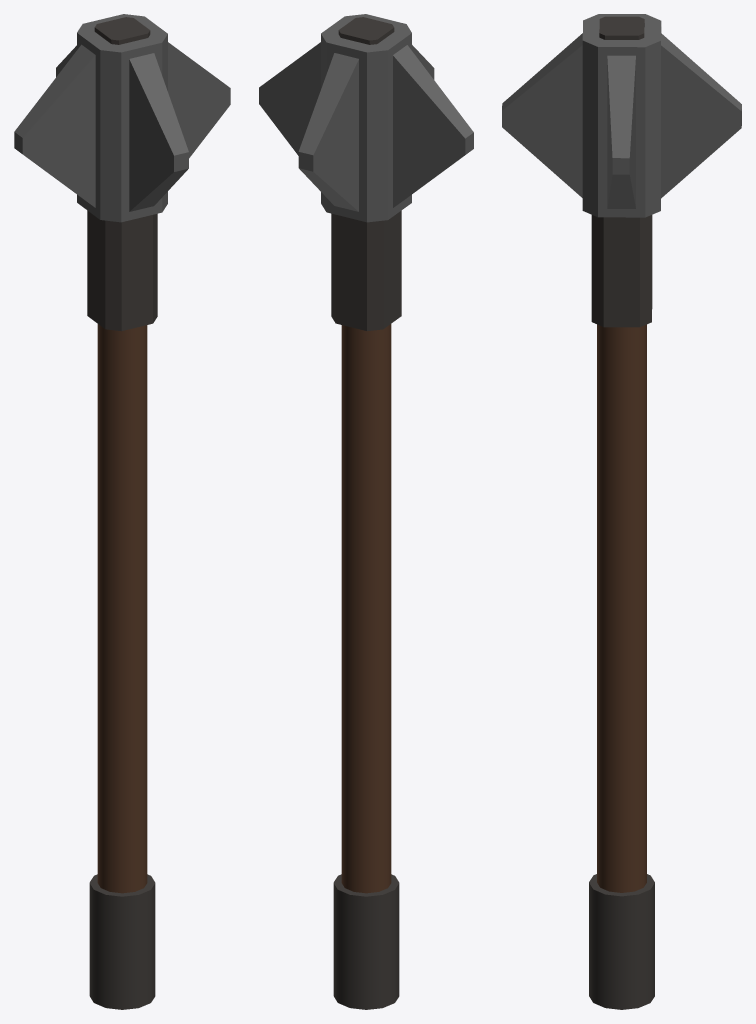
The model's file is Mace.glb.
The picture shows the model from 3 angles, left to right: view 1: azimuth 30°, elevation 25°; view 2: azimuth 150°, elevation 25°; view 3: azimuth 270°, elevation 25°; orthographic projection.
Visible parts, largest first — view 1: Mace; view 2: Mace; view 3: Mace.
Part boxes in pixels (x1,y1,x2,y2): Mace: (14,14,230,1009); Mace: (259,14,473,1009); Mace: (502,14,741,1009).
Size of the model in its own units: 0.1914 by 0.8539 by 0.1914.
Materials: 1 (1 with a texture image).
